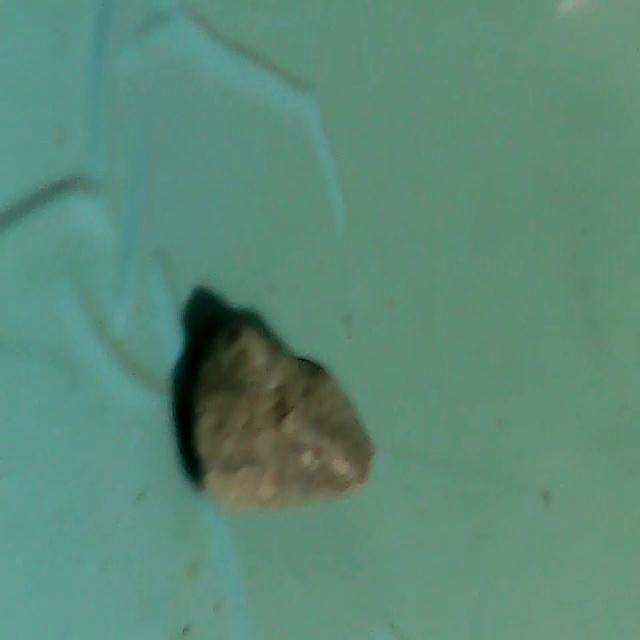rock: (180, 307, 383, 511)
